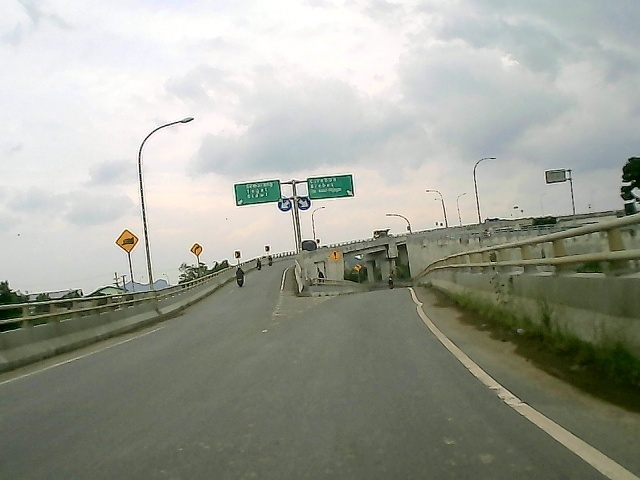Hati-hati: (329, 249, 342, 263)
Jalanan menanjak: (113, 228, 142, 253)
Tikungan ke kanan: (189, 241, 204, 258)
